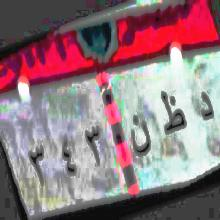3: (28, 139, 45, 188), (84, 122, 102, 168)
4: (59, 130, 76, 183)
Thaa: (158, 85, 187, 147)
daal: (198, 83, 214, 132)
noon: (129, 106, 151, 162)
